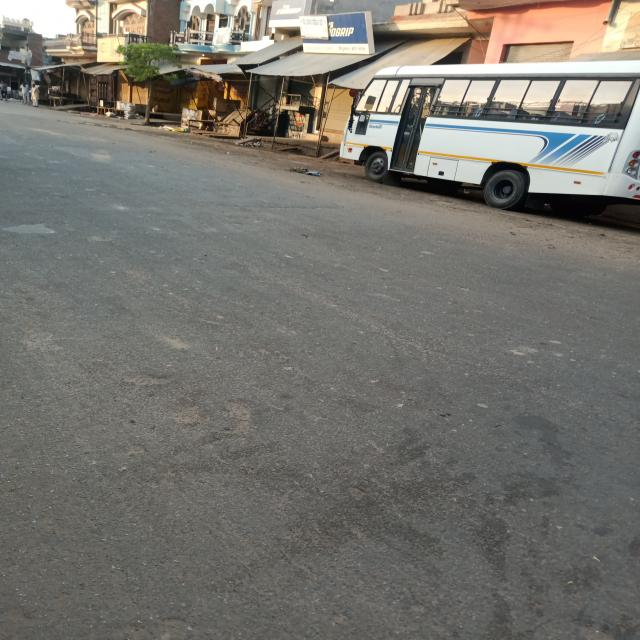Bus: (338, 64, 637, 222)
